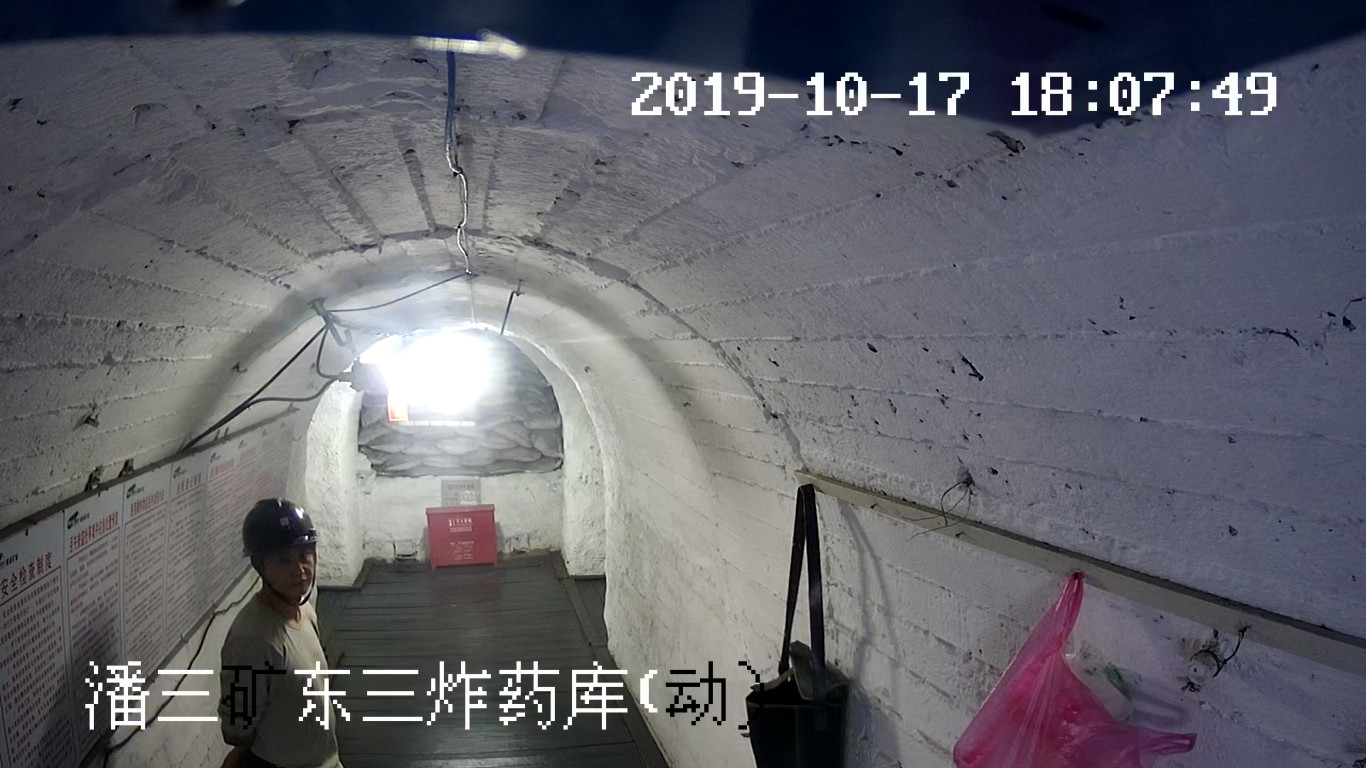helmet: (240, 496, 317, 556)
